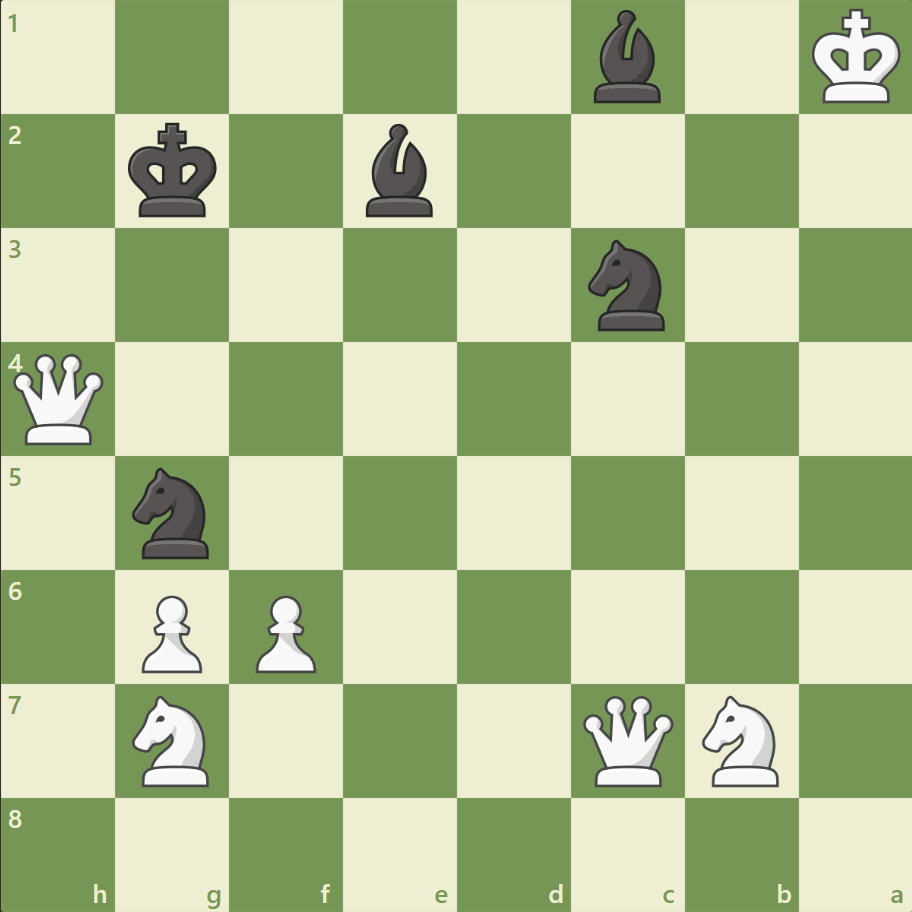K: (806, 4, 906, 112)
N: (124, 688, 222, 791), (692, 688, 789, 791)
P: (247, 586, 322, 677), (133, 586, 208, 677)
Q: (10, 349, 109, 449), (578, 690, 677, 789)
b: (585, 6, 669, 109), (358, 120, 442, 222)
k: (124, 117, 224, 225)
n: (124, 461, 222, 564), (579, 234, 676, 337)
